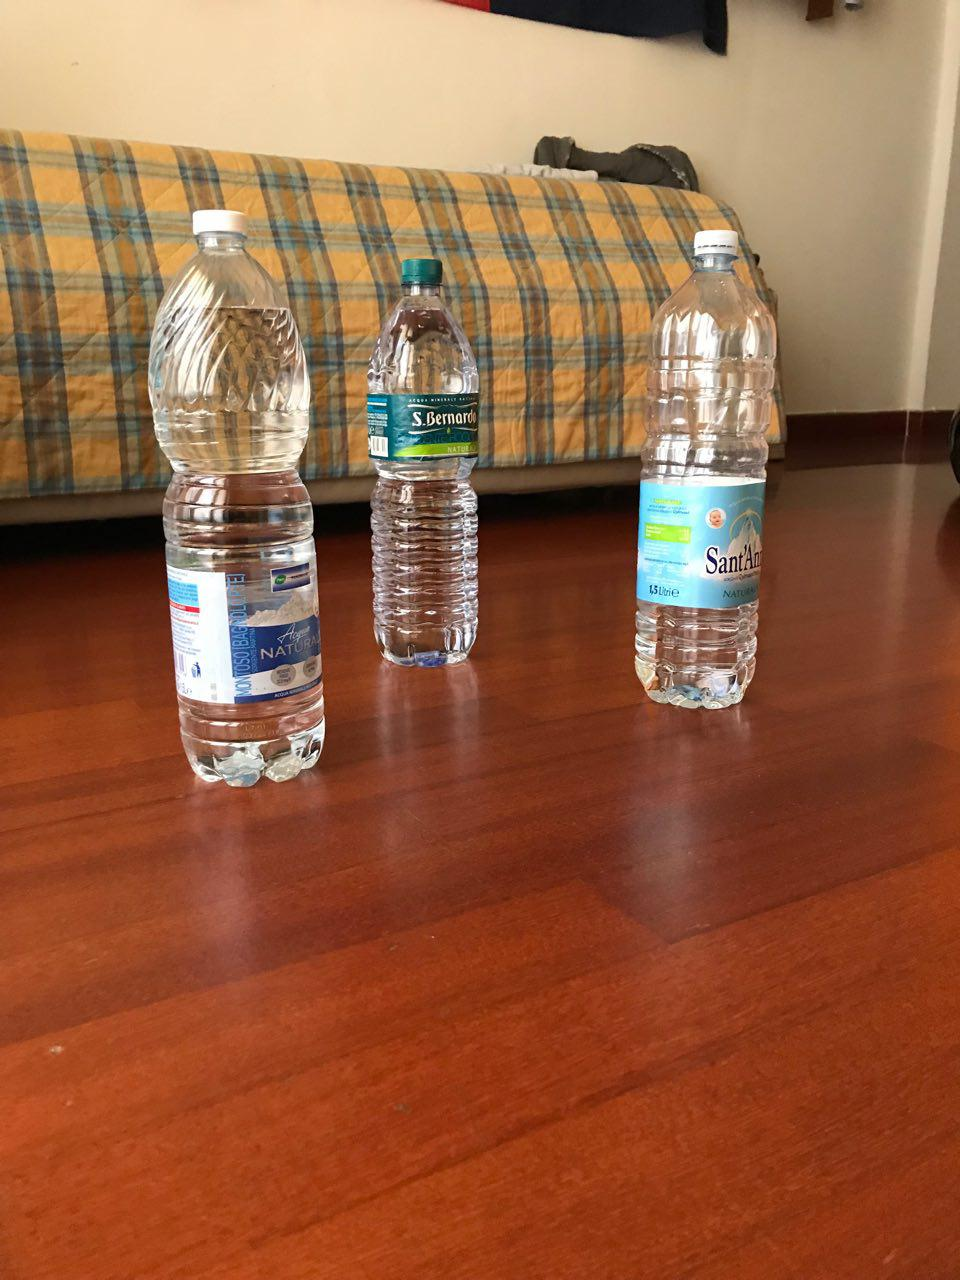san_bernardo: (365, 258, 481, 669)
